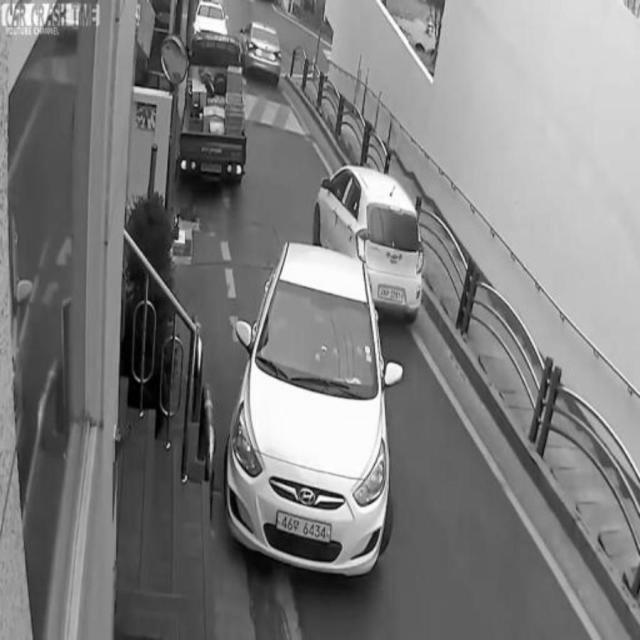vehicle: (228, 243, 392, 583), (314, 164, 424, 308), (181, 31, 247, 187), (239, 16, 283, 86)
